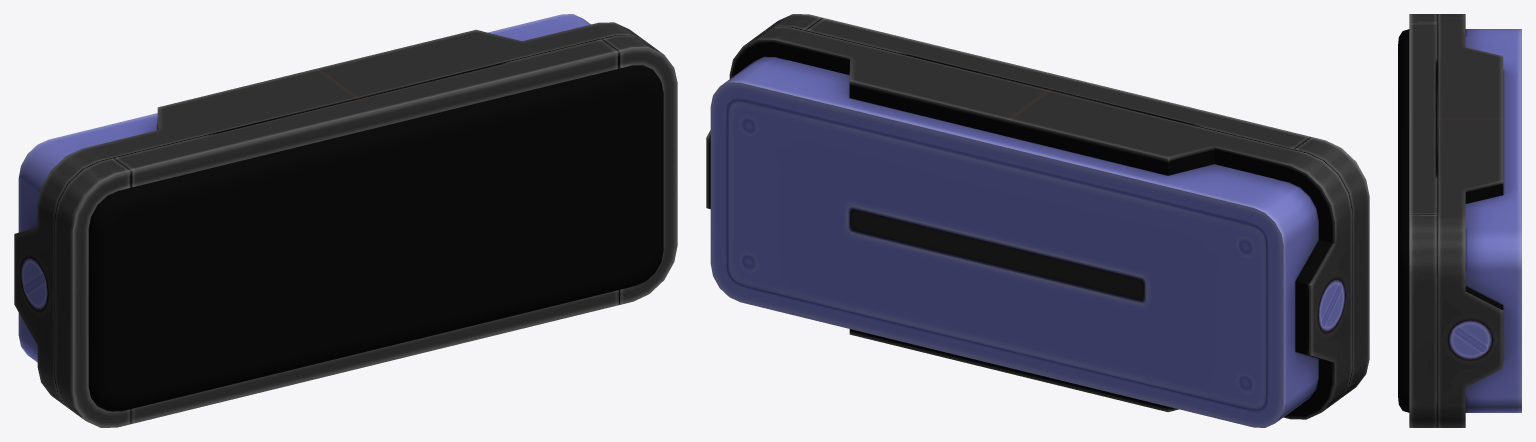
Rendered from rfs_lcd_large.fbx.
The picture shows the model from 3 angles, left to right: view 1: azimuth 30°, elevation 25°; view 2: azimuth 150°, elevation 25°; view 3: azimuth 270°, elevation 25°; orthographic projection. The views are drawn at different scales.
Parts seen in each view (by area): view 1: obj_interactive_textsign_large.001, obj_interactive_textsign_large; view 2: obj_interactive_textsign_large; view 3: obj_interactive_textsign_large, obj_interactive_textsign_large.001.
Part boxes in pixels (left/top/right/bottom): obj_interactive_textsign_large.001: left=88, top=65, right=663, bottom=411; obj_interactive_textsign_large: left=14, top=14, right=677, bottom=427; obj_interactive_textsign_large: left=706, top=14, right=1369, bottom=427; obj_interactive_textsign_large: left=1409, top=14, right=1521, bottom=427; obj_interactive_textsign_large.001: left=1398, top=29, right=1409, bottom=412.
Bounding box in the file's own units: 5 × 2 × 1.1.
